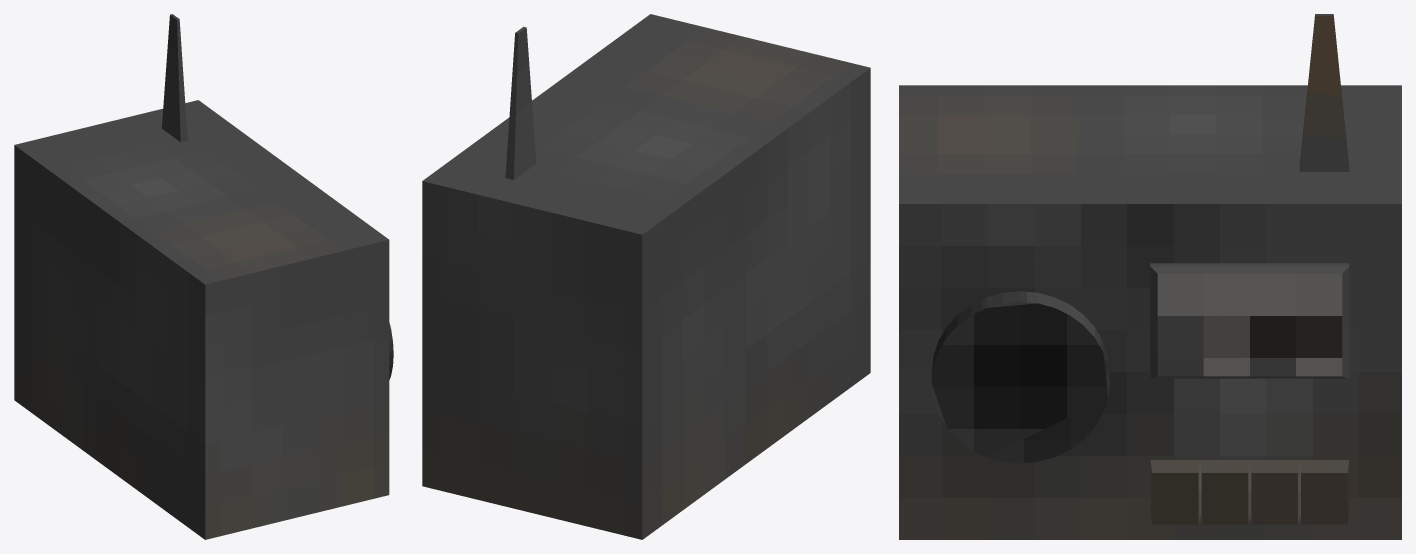
File: radio.fbx
3 renders of one model, left to right at view 1: azimuth 30°, elevation 25°; view 2: azimuth 150°, elevation 25°; view 3: azimuth 270°, elevation 25°, orthographic. The views are drawn at different scales.
Parts seen in each view (by area): view 1: Cube; view 2: Cube; view 3: Cube.
Boxes of the visible parts, x1,y1,x2,y2 form: Cube: [14, 14, 393, 539]; Cube: [422, 14, 870, 539]; Cube: [899, 14, 1401, 539].
Bounding box in the file's own units: 41.43 × 73.04 × 67.78.
Materials: 1 (1 with a texture image).
